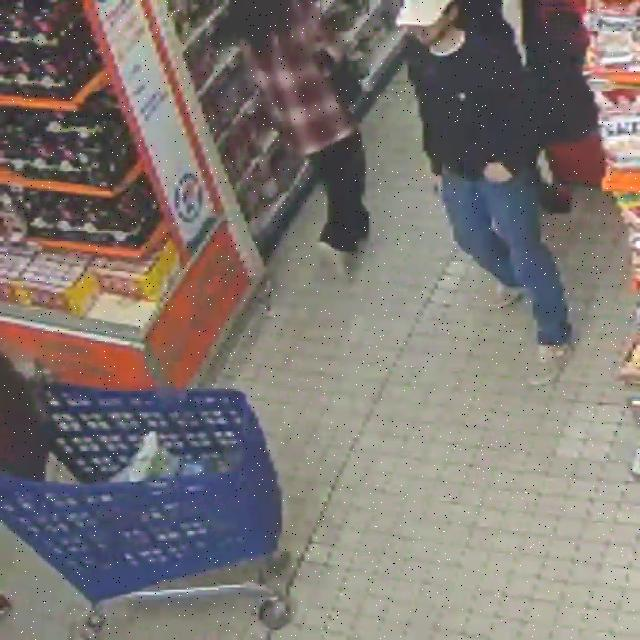hands: (484, 163, 512, 183), (434, 176, 442, 195)
person: (398, 0, 571, 385), (220, 0, 369, 272)
